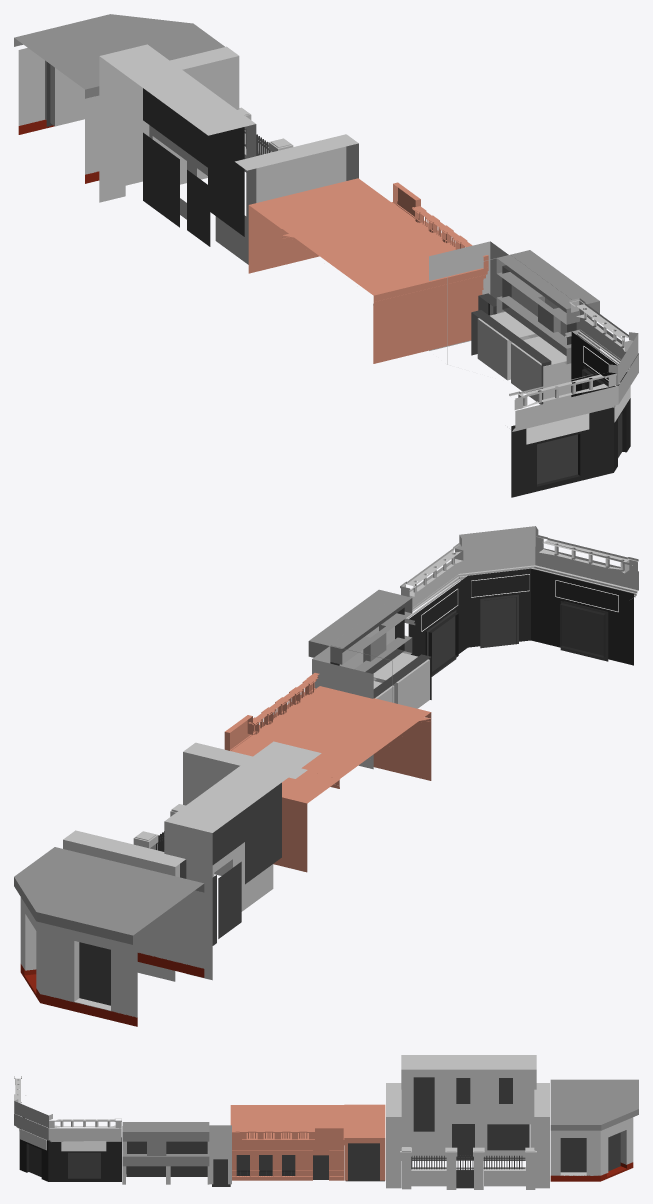
Rendered from Der.fbx.
The picture shows the model from 3 angles, top to bottom: view 1: azimuth 30°, elevation 25°; view 2: azimuth 150°, elevation 25°; view 3: azimuth 270°, elevation 25°; orthographic projection. The views are drawn at different scales.
Parts seen in each view (by area): view 1: Base, Base2, Ventanas-Puertas, BASE3, SegundaParte, BASE4, Parte-Arriba, Garage, BASE, SEPARATOR, Ventanas y Puertas2, Ventanas - Puertas (+1 smaller); view 2: Base, Base2, BASE4, SegundaParte, BASE, Parte-Arriba, Ventanas-Puertas, Ventanas - Puertas, SEPARATOR, BASE3, Garage, Primera-Parte (+2 smaller); view 3: Base, Base2, SegundaParte, Ventanas-Puertas, Exterior, SEPARATOR, Parte-Arriba, BASE, BASE4, Ventanas y Puertas2, Garage, Vetanas - Puertas (+7 smaller).
Boxes of the visible parts, bbox=[...] form: Base: bbox=[99, 44, 358, 264]; Base2: bbox=[282, 182, 488, 363]; Ventanas-Puertas: bbox=[143, 88, 244, 246]; BASE3: bbox=[429, 241, 580, 404]; SegundaParte: bbox=[14, 14, 224, 98]; BASE4: bbox=[511, 331, 630, 497]; Parte-Arriba: bbox=[509, 298, 638, 431]; Garage: bbox=[248, 178, 390, 273]; BASE: bbox=[18, 48, 99, 174]; SEPARATOR: bbox=[496, 250, 599, 364]; Ventanas y Puertas2: bbox=[471, 265, 576, 404]; Ventanas - Puertas: bbox=[537, 366, 622, 484]; Base: bbox=[63, 741, 321, 981]; Base2: bbox=[224, 673, 431, 788]; BASE4: bbox=[408, 568, 633, 674]; SegundaParte: bbox=[14, 847, 204, 944]; BASE: bbox=[20, 890, 204, 1017]; Parte-Arriba: bbox=[400, 526, 638, 625]; Ventanas-Puertas: bbox=[180, 782, 281, 945]; Ventanas - Puertas: bbox=[427, 594, 608, 676]; SEPARATOR: bbox=[308, 589, 412, 680]; BASE3: bbox=[312, 594, 429, 769]; Garage: bbox=[273, 771, 339, 872]; Primera-Parte: bbox=[20, 953, 204, 1026]; Base: bbox=[386, 1055, 549, 1188]; Base2: bbox=[230, 1105, 344, 1180]; SegundaParte: bbox=[550, 1079, 638, 1130]; Ventanas-Puertas: bbox=[413, 1077, 529, 1159]; Exterior: bbox=[400, 1147, 536, 1189]; SEPARATOR: bbox=[122, 1122, 209, 1166]; Parte-Arriba: bbox=[14, 1076, 121, 1141]; BASE: bbox=[550, 1117, 633, 1175]; BASE4: bbox=[19, 1117, 121, 1181]; Ventanas y Puertas2: bbox=[126, 1141, 230, 1186]; Garage: bbox=[344, 1104, 385, 1180]; Vetanas - Puertas: bbox=[560, 1132, 620, 1172].
Bounding box in the file's own units: 3150 × 2627 × 15963.
